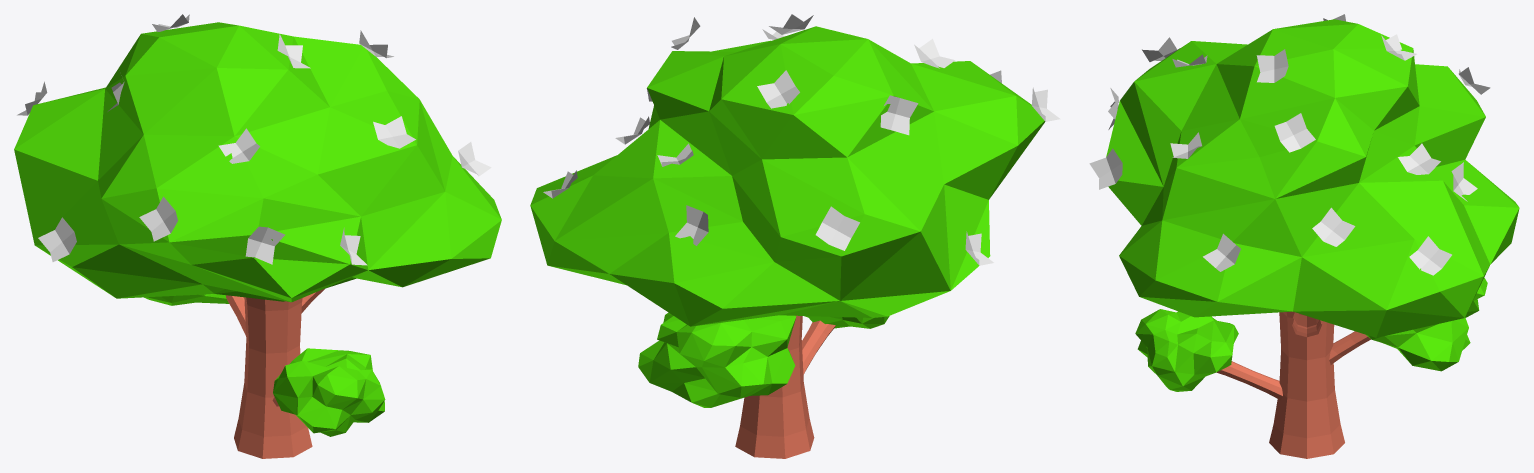
Rendered from OrangeBlossom.fbx.
3 views of the same model, side by side, from view 1: azimuth 30°, elevation 25°; view 2: azimuth 150°, elevation 25°; view 3: azimuth 270°, elevation 25° (orthographic). The views are drawn at different scales.
Visible parts, largest first — view 1: Cylinder.005; view 2: Cylinder.005; view 3: Cylinder.005.
Boxes of the visible parts, x1,y1,x2,y2 form: Cylinder.005: (14,14,501,458); Cylinder.005: (530,14,1060,458); Cylinder.005: (1089,14,1519,458).
Size of the model in its own units: 164 by 158 by 158.
